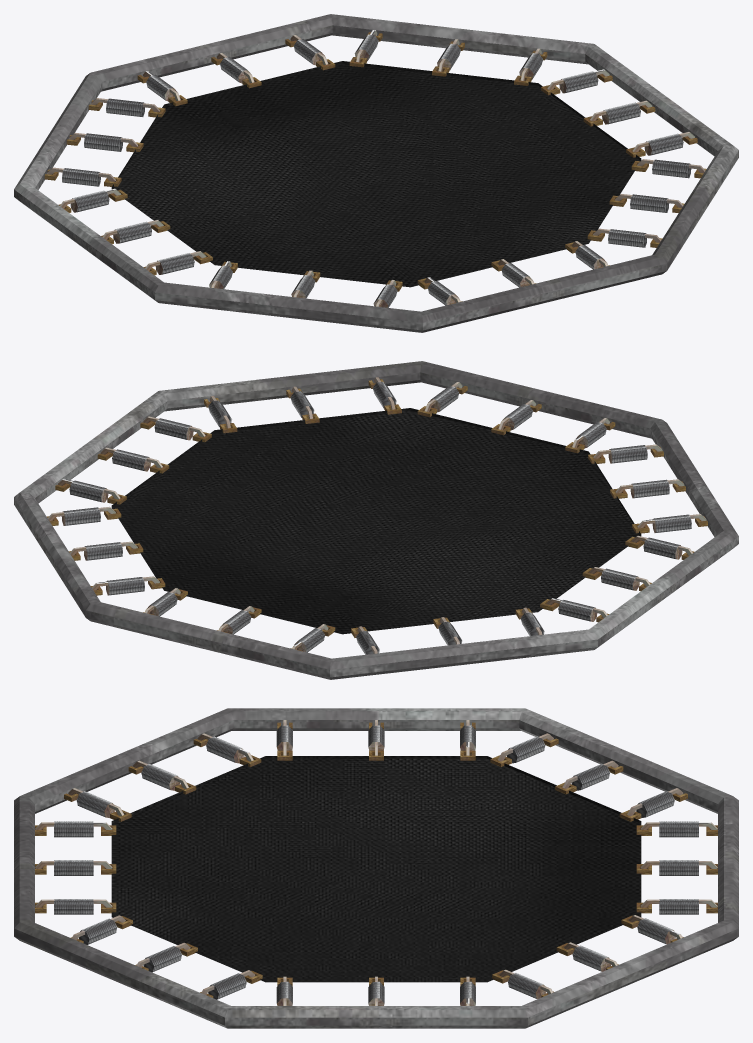
The model's file is camaElastica.fbx.
The picture shows the model from 3 angles, top to bottom: view 1: azimuth 30°, elevation 25°; view 2: azimuth 150°, elevation 25°; view 3: azimuth 270°, elevation 25°; orthographic projection. The views are drawn at different scales.
Visible parts, largest first — view 1: Cylinder.003; view 2: Cylinder.003; view 3: Cylinder.003.
Boxes of the visible parts, box(x1,y1,x2,y2) form: Cylinder.003: box(14, 14, 738, 332); Cylinder.003: box(14, 361, 738, 679); Cylinder.003: box(14, 708, 738, 1028).
Bounding box in the file's own units: 4751 × 135 × 4751.
4 materials, 4 textured.
